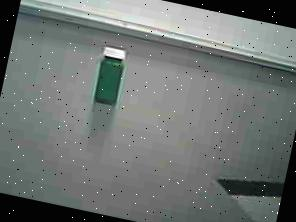Bottle C: (85, 40, 137, 114)
